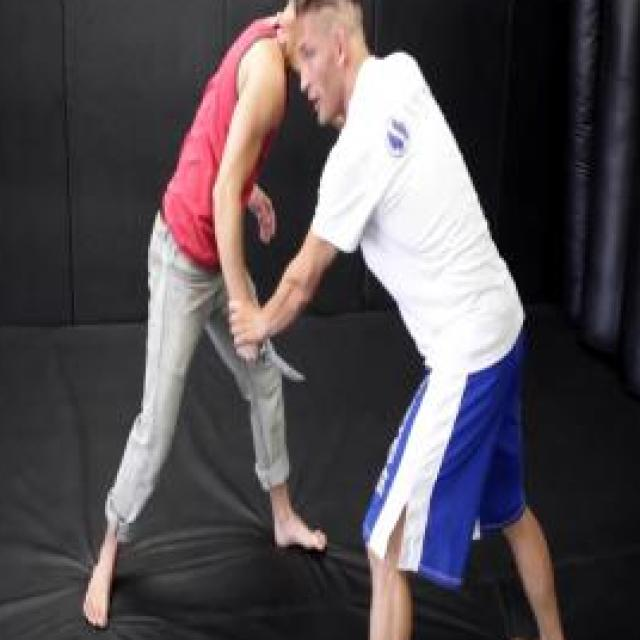knife: (227, 329, 309, 393)
